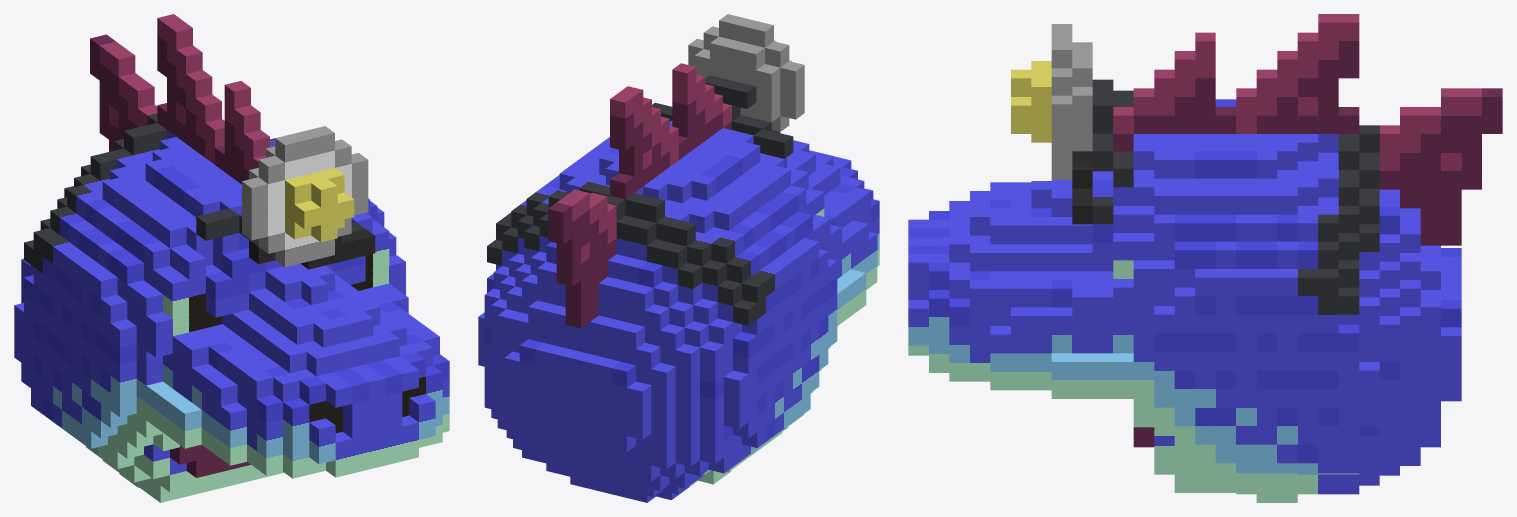
Rendered from doctor_skydiving goggles.gltf.
The picture shows the model from 3 angles, left to right: view 1: azimuth 30°, elevation 25°; view 2: azimuth 150°, elevation 25°; view 3: azimuth 270°, elevation 25°; orthographic projection. The views are drawn at different scales.
Visible parts, largest first — view 1: C15_H_DoctorL_EyeP_SkyDiving-Mesh; view 2: C15_H_DoctorL_EyeP_SkyDiving-Mesh; view 3: C15_H_DoctorL_EyeP_SkyDiving-Mesh.
Part boxes in pixels (bbox=[...]): C15_H_DoctorL_EyeP_SkyDiving-Mesh: bbox=[14, 14, 449, 502]; C15_H_DoctorL_EyeP_SkyDiving-Mesh: bbox=[478, 14, 879, 502]; C15_H_DoctorL_EyeP_SkyDiving-Mesh: bbox=[908, 14, 1502, 502].
Bounding box in the file's own units: 17 × 24 × 29.
1 material, 1 textured.
